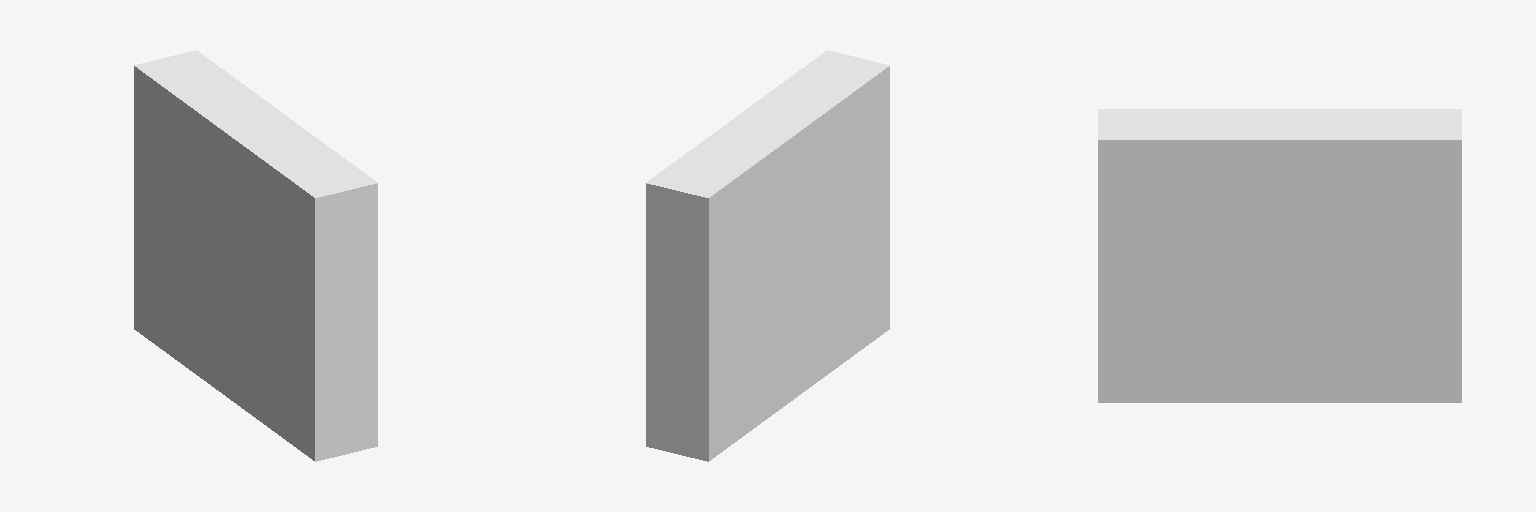
The model's file is barreraBaixa.obj.
3 renders of one model, left to right at view 1: azimuth 30°, elevation 25°; view 2: azimuth 150°, elevation 25°; view 3: azimuth 270°, elevation 25°, orthographic.
Parts seen in each view (by area): view 1: object 1; view 2: object 1; view 3: object 1.
Part boxes in pixels (x1,y1,x2,y2): object 1: (134,50,377,461); object 1: (646,50,889,461); object 1: (1098,109,1461,402).
Bounding box in the file's own units: 1 × 4 × 5.